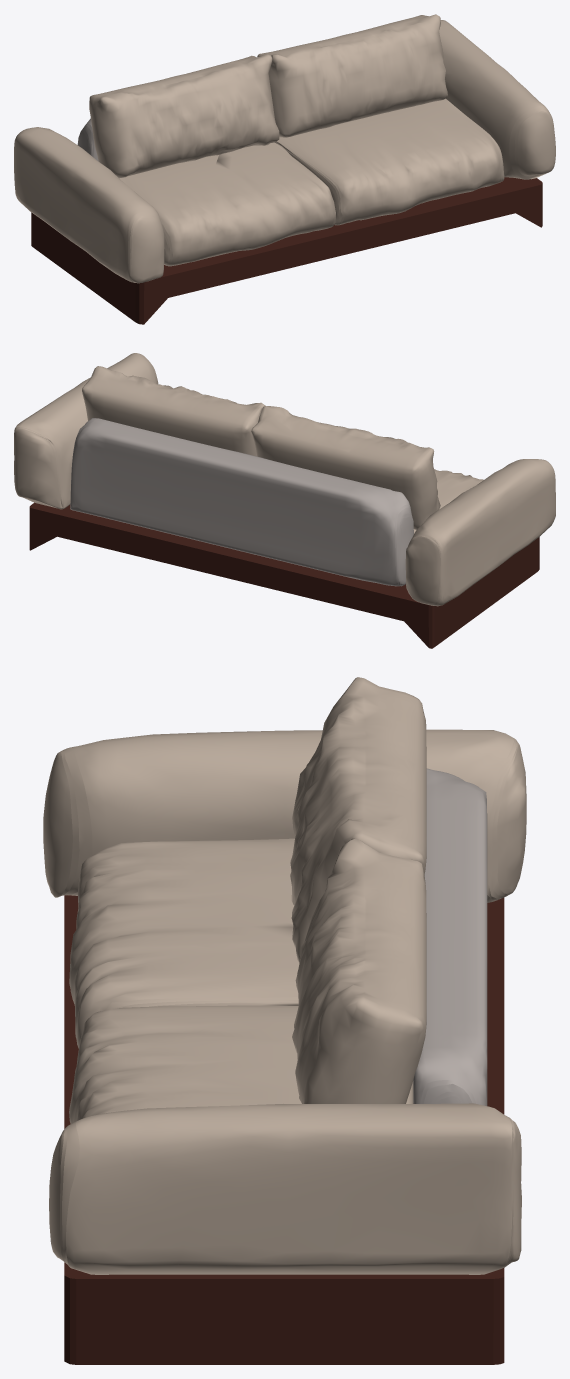
Rendered from koltuk.fbx.
3 renders of one model, top to bottom at view 1: azimuth 30°, elevation 25°; view 2: azimuth 150°, elevation 25°; view 3: azimuth 270°, elevation 25°, orthographic. The views are drawn at different scales.
Parts seen in each view (by area): view 1: Box062.001, Cube, Box062, Box062.005, Box062.004, Box062.003, Box062.002, Box062.007; view 2: Box062.007, Cube, Box062.003, Box062.005, Box062.004, Box062.002, Box062; view 3: Box062.002, Cube, Box062.003, Box062, Box062.004, Box062.001, Box062.005, Box062.007.
Boxes of the visible parts, x1,y1,x2,y2 form: Box062.001: [275, 98, 504, 225]; Cube: [31, 177, 542, 324]; Box062: [119, 142, 335, 266]; Box062.005: [89, 54, 279, 178]; Box062.004: [257, 14, 447, 137]; Box062.003: [14, 127, 164, 283]; Box062.002: [439, 20, 555, 179]; Box062.007: [77, 118, 98, 161]; Box062.007: [70, 418, 413, 586]; Cube: [29, 502, 539, 648]; Box062.003: [405, 459, 555, 606]; Box062.005: [251, 406, 440, 529]; Box062.004: [82, 366, 265, 456]; Box062.002: [14, 353, 158, 509]; Box062: [413, 469, 483, 533]; Box062.002: [49, 1103, 521, 1274]; Cube: [64, 895, 504, 1364]; Box062.003: [43, 729, 526, 902]; Box062: [69, 838, 299, 1048]; Box062.004: [292, 838, 426, 1103]; Box062.001: [69, 1005, 413, 1123]; Box062.005: [290, 677, 426, 962]; Box062.007: [413, 768, 487, 1105].
Bounding box in the file's own units: 1764 × 655 × 855.
